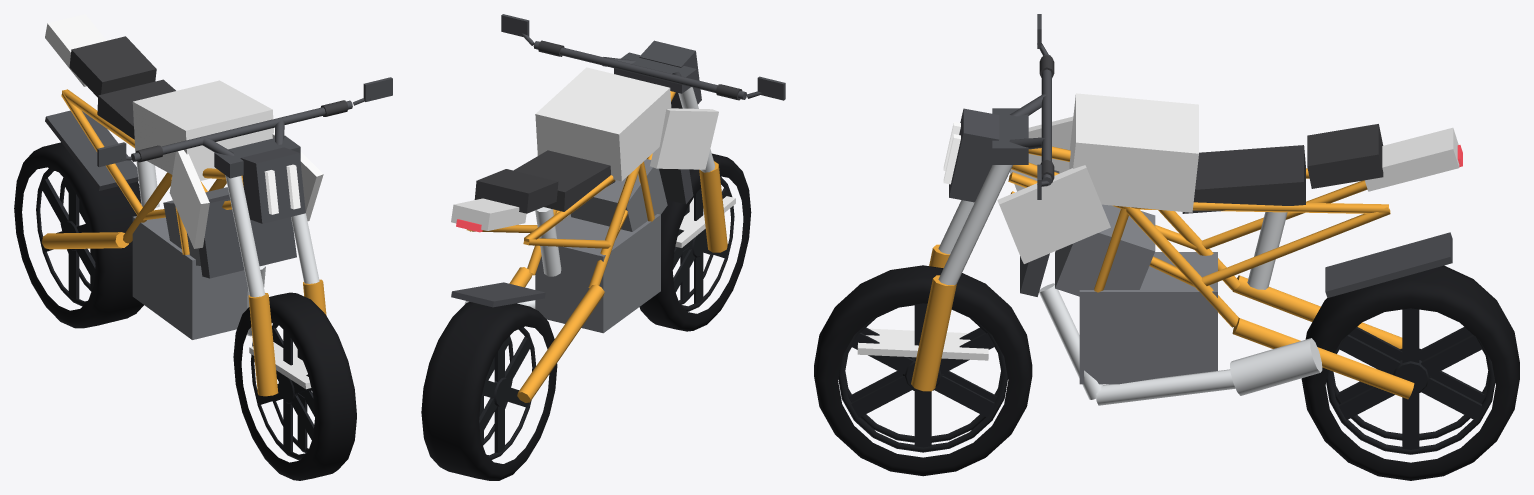
Rendered from ktm_duke390.lod.glb.
3 renders of one model, left to right at view 1: azimuth 30°, elevation 25°; view 2: azimuth 150°, elevation 25°; view 3: azimuth 270°, elevation 25°, orthographic. The views are drawn at different scales.
Visible parts, largest first — view 1: body_trim (×2), tire (×2), body_paint (×2), rim (×4), body_chrome (×2), headlights; view 2: body_trim (×2), tire (×2), body_paint (×2), rim (×4), body_chrome (×2); view 3: body_trim (×2), tire (×2), body_paint (×2), rim (×4), body_chrome (×2).
Part boxes in pixels (<box>): body_trim (×2): <box>42,36,392,396</box>; tire (×2): <box>14,142,356,480</box>; body_paint (×2): <box>45,14,323,389</box>; rim (×4): <box>36,168,314,460</box>; body_chrome (×2): <box>135,149,319,336</box>; headlights: <box>264,164,300,214</box>; body_trim (×2): <box>451,14,785,402</box>; tire (×2): <box>421,153,751,480</box>; body_paint (×2): <box>451,67,735,247</box>; rim (×4): <box>479,176,734,459</box>; body_chrome (×2): <box>464,87,715,308</box>; body_trim (×2): <box>911,14,1452,399</box>; tire (×2): <box>814,265,1519,480</box>; body_paint (×2): <box>857,93,1459,360</box>; rim (×4): <box>838,303,1495,454</box>; body_chrome (×2): <box>938,165,1322,405</box>.
Bounding box in the file's own units: 1.08 × 1.13 × 1.94.
